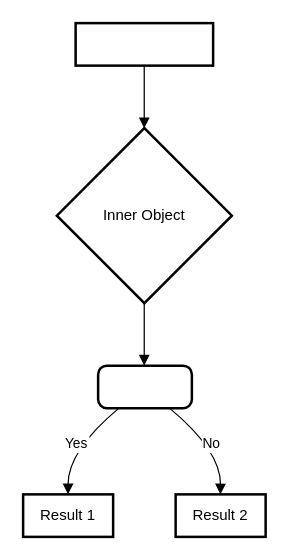
This 288x559 diagram has some shape labels left out. The centre of each missing label's shape, as x and y in pixels:
"Decision" goes at (x=144, y=386).
"Outer Object" goes at (x=144, y=43).
